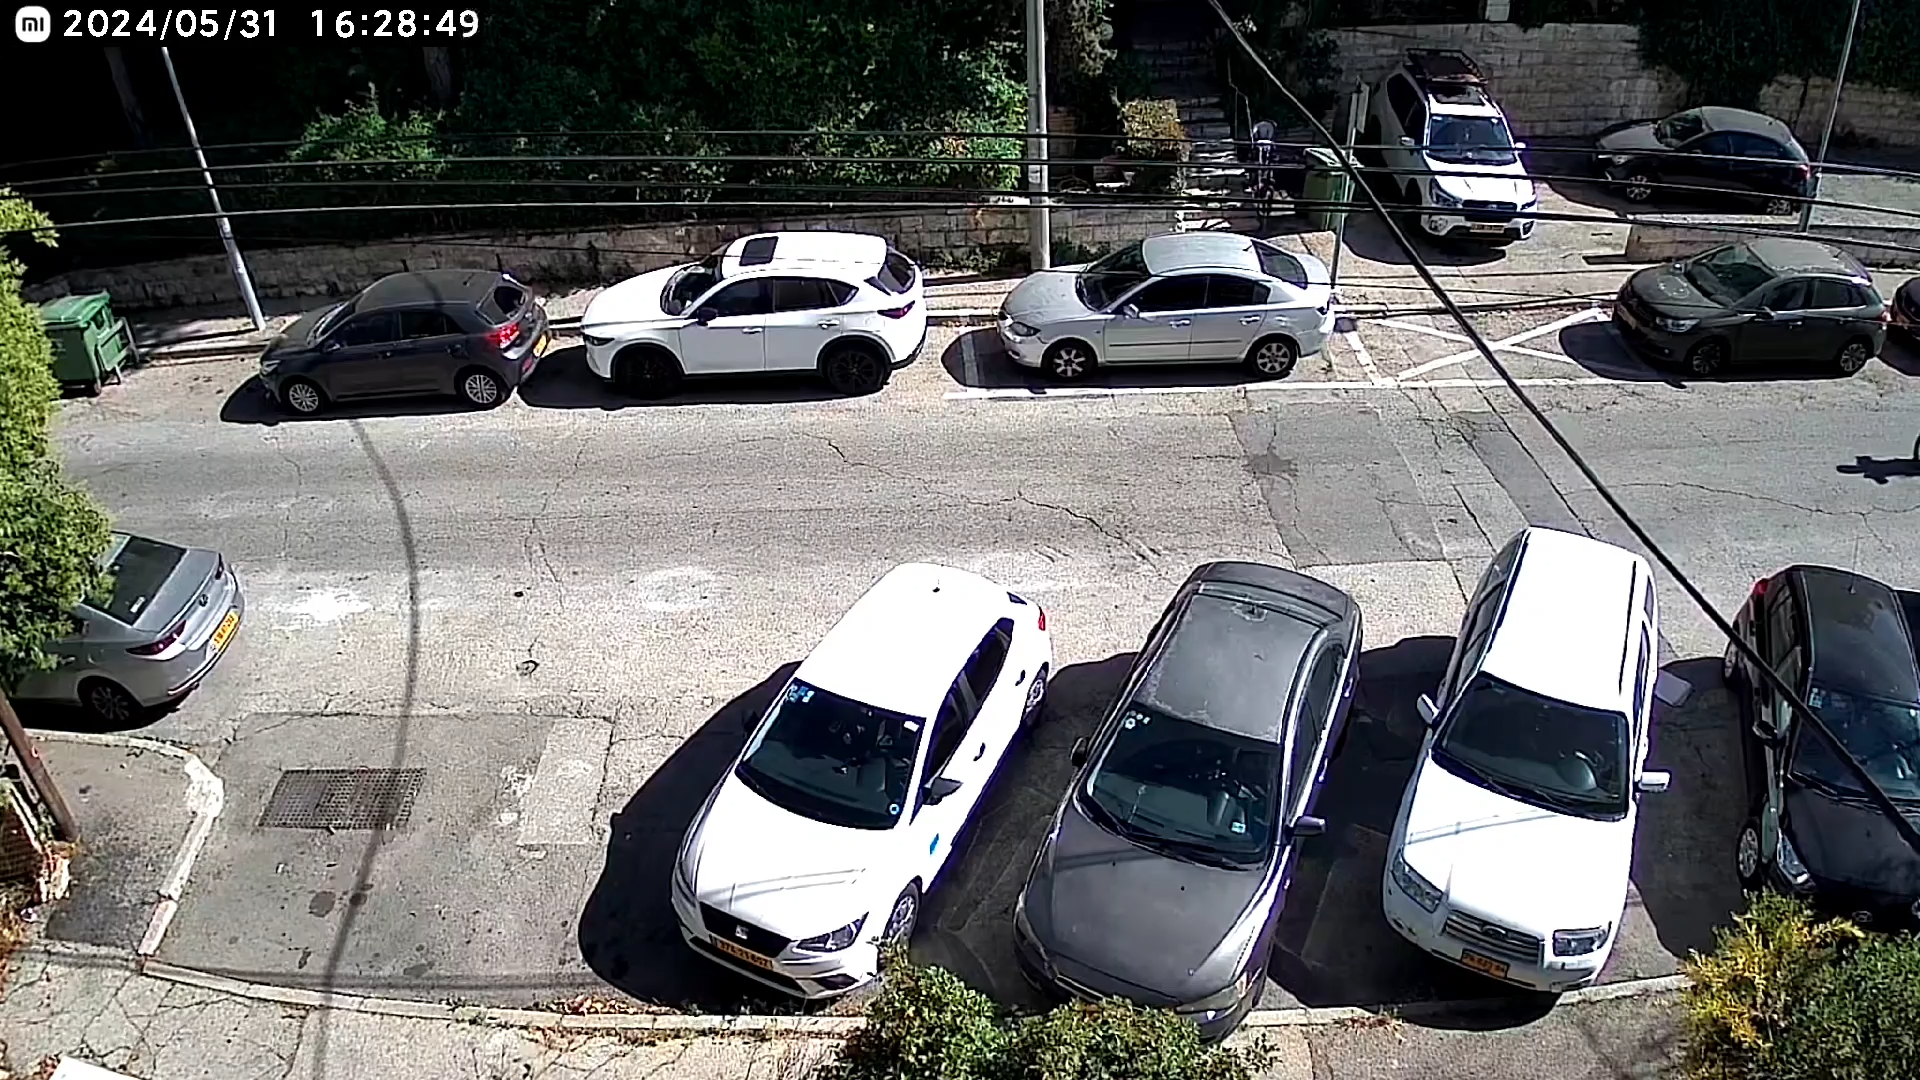vertical: (1, 723, 976, 972), (334, 505, 1120, 709), (1015, 777, 1826, 960), (1, 488, 316, 649)
